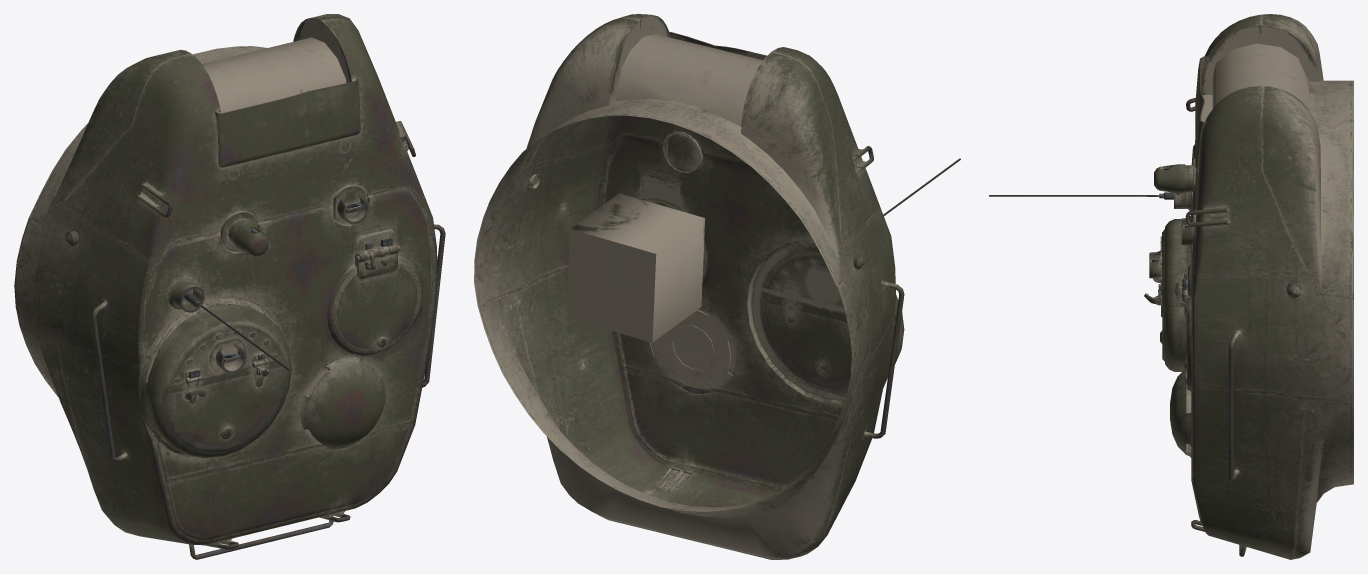
Rendered from Turret_01.glb.
3 views of the same model, side by side, from view 1: azimuth 30°, elevation 25°; view 2: azimuth 150°, elevation 25°; view 3: azimuth 270°, elevation 25° (orthographic). The views are drawn at different scales.
Parts seen in each view (by area): view 1: set_0_group_0; view 2: set_0_group_0; view 3: set_0_group_0.
Boxes of the visible parts, box(x1,y1,x2,y2) form: set_0_group_0: box(14, 14, 445, 559); set_0_group_0: box(474, 14, 960, 559); set_0_group_0: box(989, 14, 1353, 559).
Size of the model in its own units: 2.38 by 3 by 2.1.
1 material, 1 textured.
